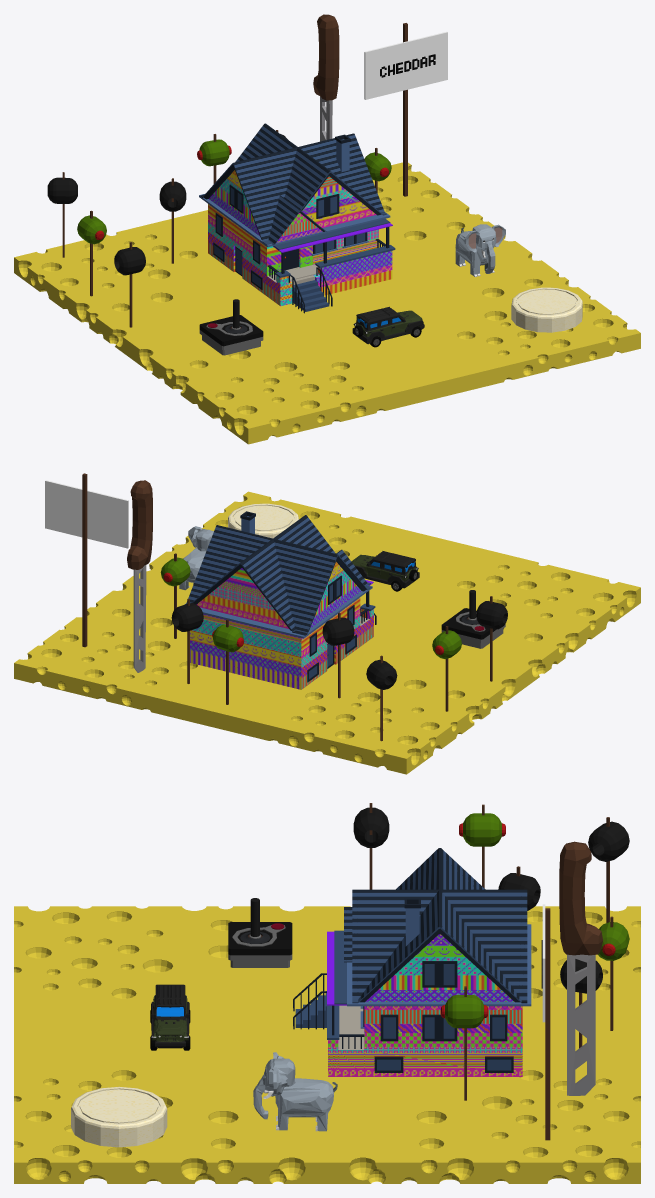
3 views of the same model, one above another, from view 1: azimuth 30°, elevation 25°; view 2: azimuth 150°, elevation 25°; view 3: azimuth 270°, elevation 25° (orthographic). The views are drawn at different scales.
Visible parts, largest first — view 1: Cube.022, Cube.676, Cube.023, Cylinder.016, Cube.024, OBJRANDOM_JOYSTICK, VEHICLES_JEEP, ANIMAL_ELEFANTE, Sphere.017, Sphere.016, Sphere.020, Sphere.018 (+2 smaller); view 2: Cube.022, Cube.676, Cube.023, Cube.024, VEHICLES_JEEP, Cylinder.016, OBJRANDOM_JOYSTICK, ANIMAL_ELEFANTE, Sphere.017, Sphere.020, Sphere.021, Sphere.016 (+3 smaller); view 3: Cube.022, Cube.676, Cube.024, Cylinder.016, ANIMAL_ELEFANTE, OBJRANDOM_JOYSTICK, VEHICLES_JEEP, Cube.023, Sphere.019, Sphere.016, Sphere.018, Sphere.017 (+3 smaller).
Boxes of the visible parts, box(x1,y1,x2,y2) form: Cube.022: box(14, 162, 640, 444); Cube.676: box(199, 123, 395, 313); Cube.023: box(364, 23, 447, 196); Cylinder.016: box(511, 287, 582, 332); Cube.024: box(313, 14, 339, 141); OBJRANDOM_JOYSTICK: box(199, 299, 263, 355); VEHICLES_JEEP: box(352, 306, 424, 347); ANIMAL_ELEFANTE: box(455, 224, 505, 276); Sphere.017: box(114, 242, 145, 327); Sphere.016: box(47, 172, 77, 257); Sphere.020: box(159, 178, 186, 263); Sphere.018: box(77, 210, 106, 296); Cube.022: box(14, 491, 640, 774); Cube.676: box(184, 511, 376, 689); Cube.023: box(45, 473, 128, 647); Cube.024: box(127, 480, 152, 672); VEHICLES_JEEP: box(351, 551, 419, 591); Cylinder.016: box(228, 503, 298, 538); OBJRANDOM_JOYSTICK: box(441, 590, 505, 648); ANIMAL_ELEFANTE: box(179, 526, 213, 590); Sphere.017: box(476, 596, 507, 681); Sphere.020: box(322, 612, 354, 698); Sphere.021: box(171, 598, 203, 683); Sphere.016: box(366, 655, 397, 741); Cube.022: box(14, 906, 640, 1183); Cube.676: box(293, 848, 531, 1076); Cube.024: box(559, 841, 602, 1095); Cylinder.016: box(71, 1086, 167, 1147); ANIMAL_ELEFANTE: box(253, 1052, 337, 1131); OBJRANDOM_JOYSTICK: box(228, 898, 292, 967); VEHICLES_JEEP: box(150, 984, 190, 1050); Cube.023: box(541, 904, 550, 1140); Sphere.019: box(441, 986, 487, 1100); Sphere.016: box(588, 817, 629, 922); Sphere.018: box(459, 804, 505, 888); Sphere.017: box(353, 803, 389, 889).
Bounding box in the file's own units: 3917 × 2023 × 4000.
42 materials, 7 textured.
